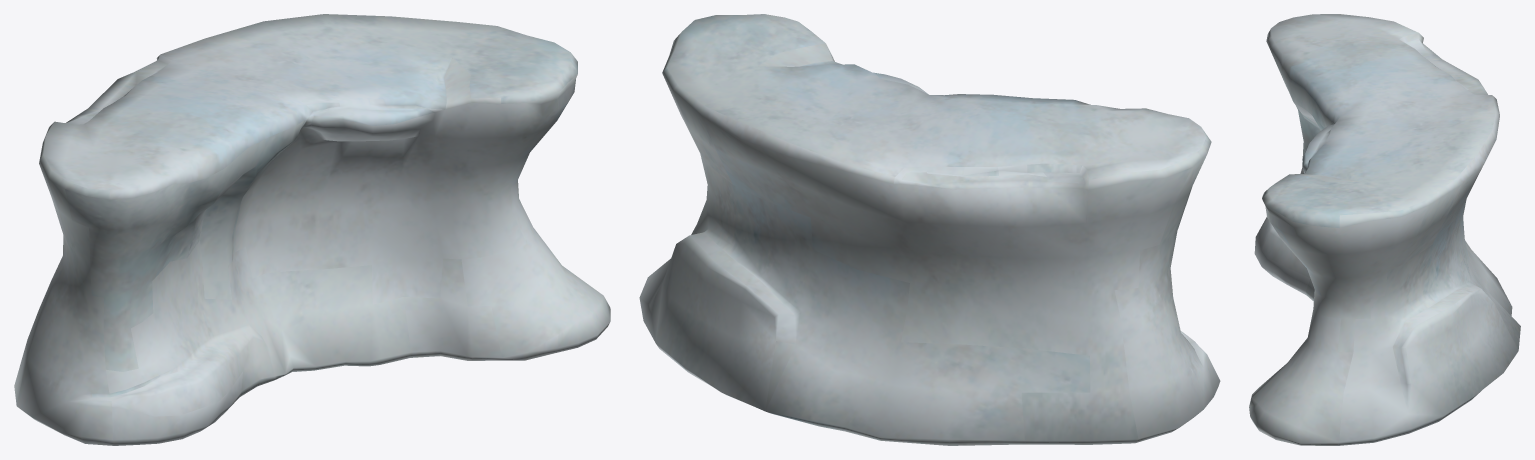
File: P_RockDesert_CliffA07.obj
3 views of the same model, side by side, from view 1: azimuth 30°, elevation 25°; view 2: azimuth 150°, elevation 25°; view 3: azimuth 270°, elevation 25° (orthographic). The views are drawn at different scales.
Size of the model in its own units: 114 by 54.99 by 57.74.
